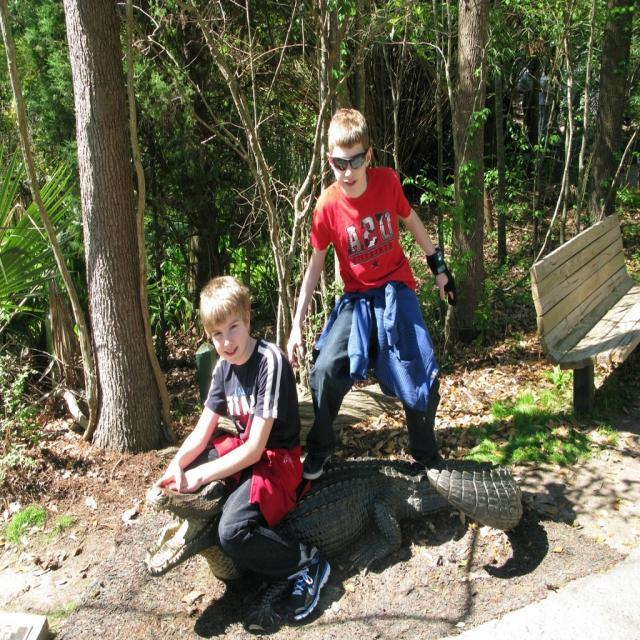crocodile: (309, 464, 520, 559)
